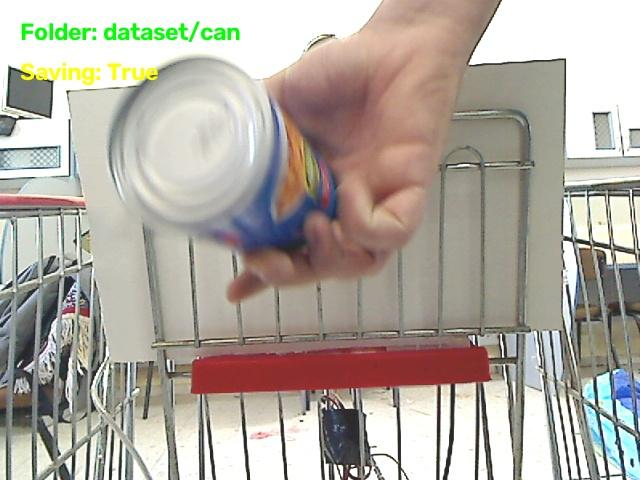can: (109, 57, 335, 250)
